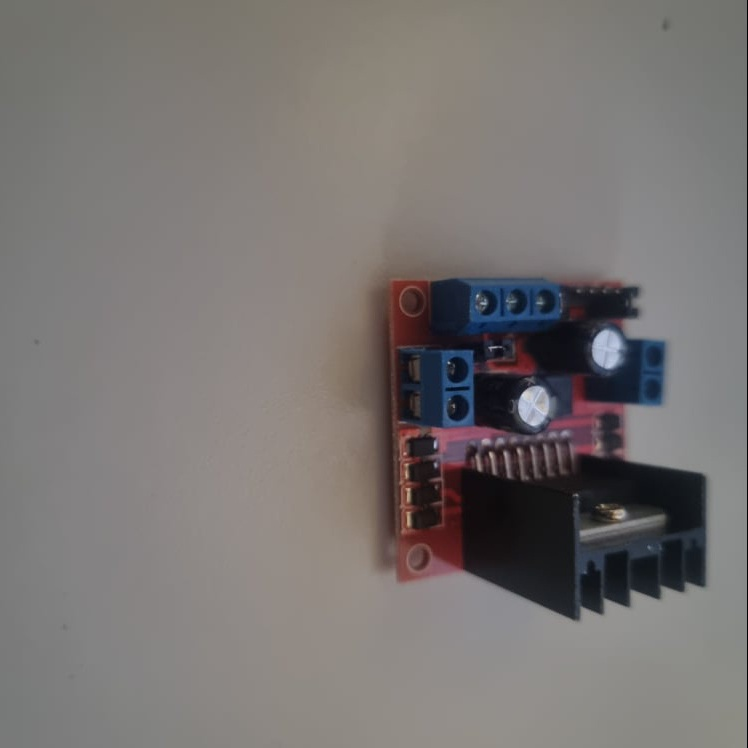MOTOR: (391, 273, 707, 623)
